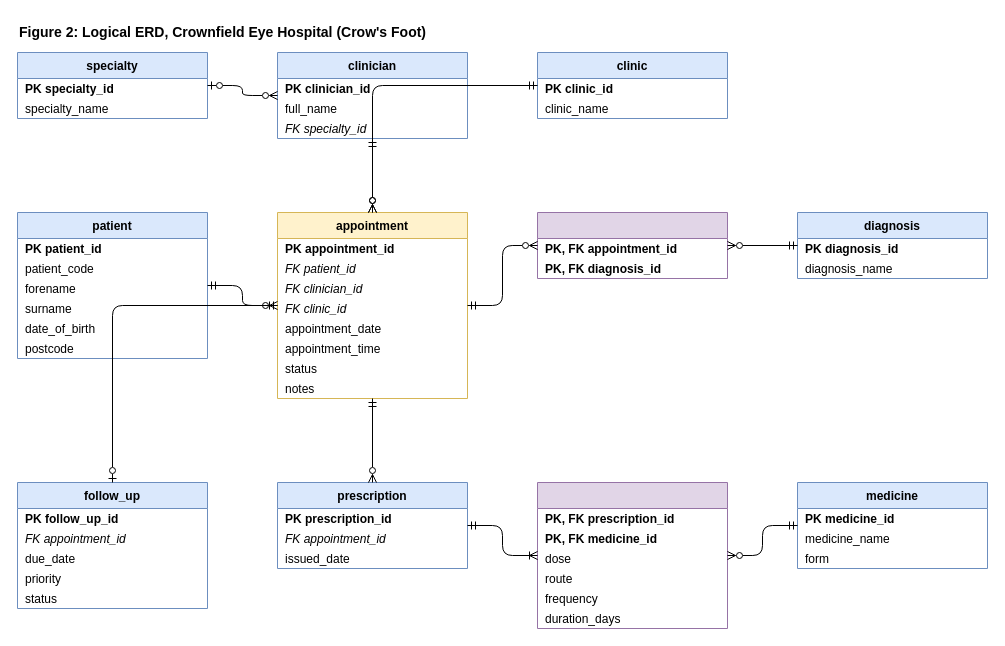
The diagram is 1005 pixels wide and 646 high, and some of its shapes have lost their labels. Here are the shapes that lost their labels. From the top down, the box of each, then its label:
(536, 212, 728, 278): appointment_diagnosis
(536, 482, 728, 628): prescription_item
